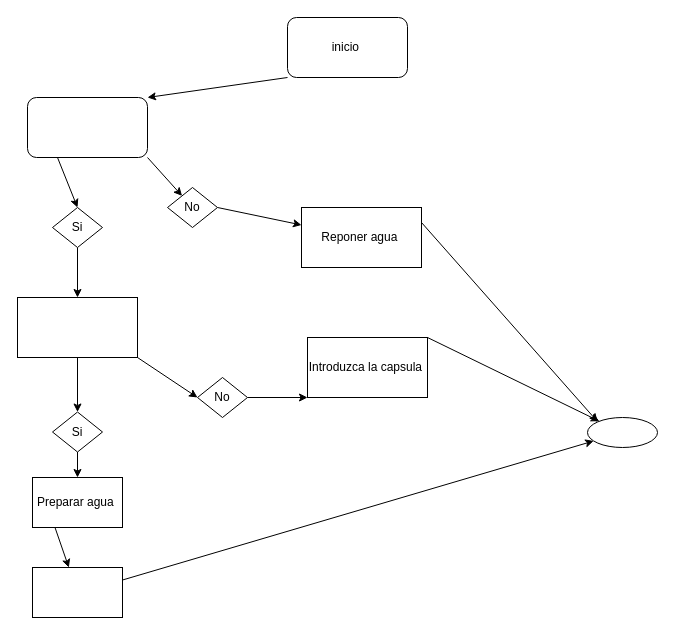
Some shapes in this 675 by 635 pixel diagram are drawn without their labels. The centre of each missing label's shape, as x and y in pixels:
"FIN" belongs at [622,432].
"Preparar el cafe" belongs at [77,592].
"Verificar Capsula" belongs at [77,327].
"Verificar deposito agua" belongs at [87,127].
